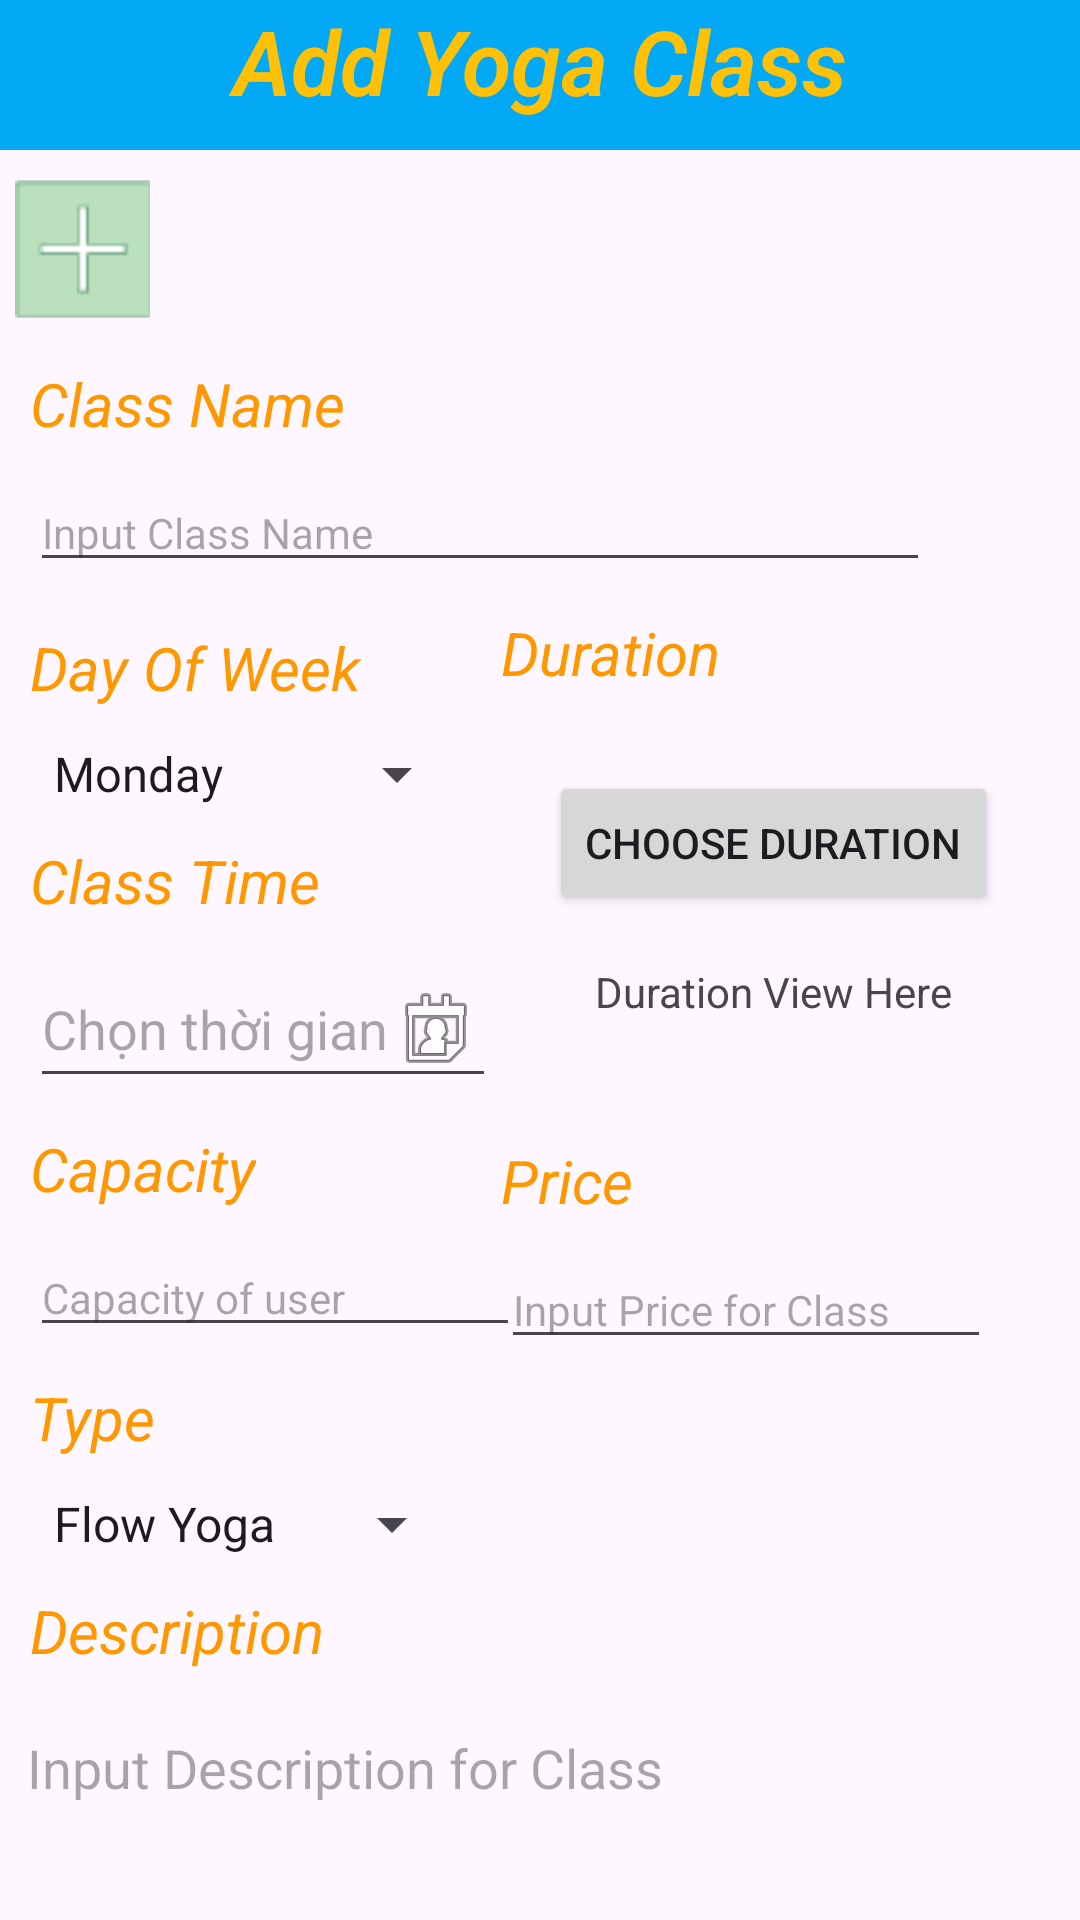

Point at icon controls on the screen. Image size 1080 × 1920, points as (x=x, y=y).
addnew: (x=82, y=249)
